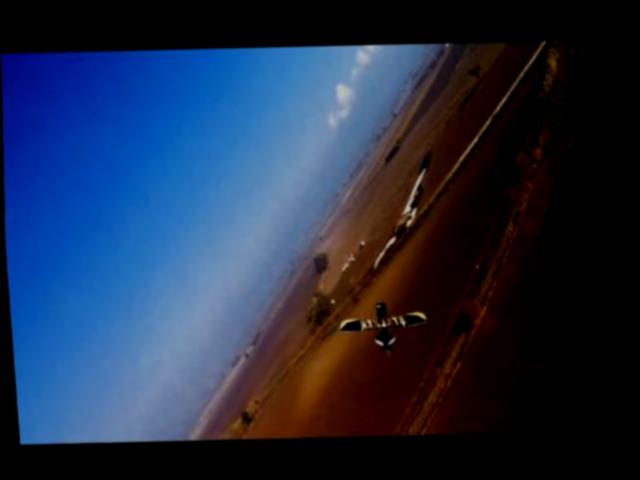uav: (333, 291, 430, 360)
